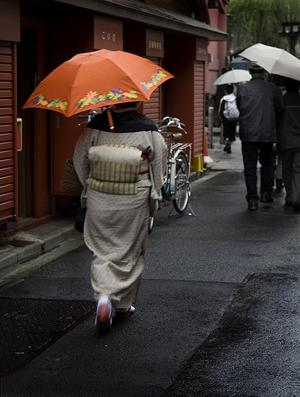person: (73, 101, 169, 330)
